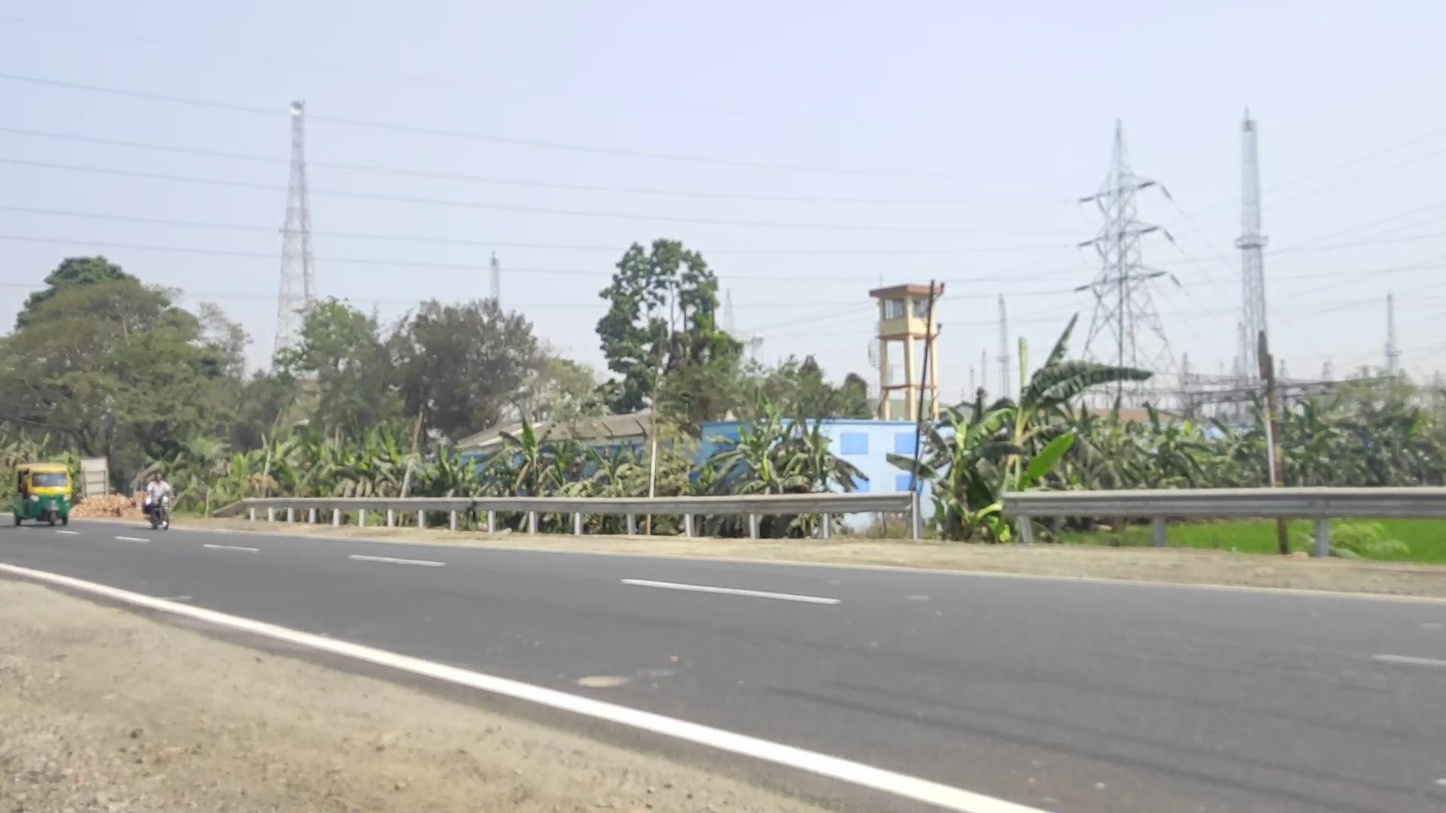Auto: (13, 462, 72, 528)
bike: (142, 470, 172, 531)
